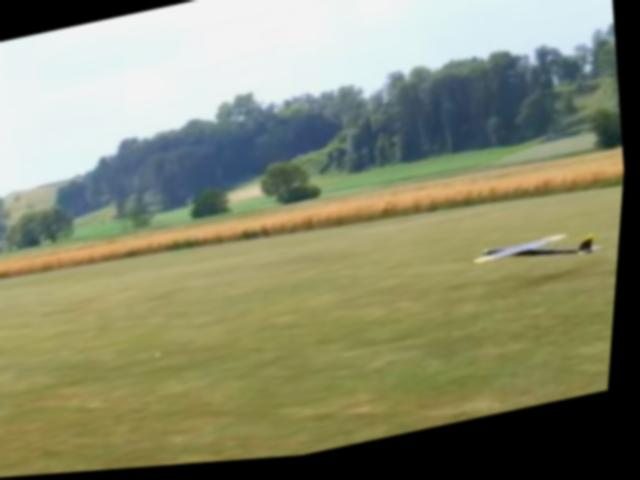uav: (468, 225, 622, 297)
